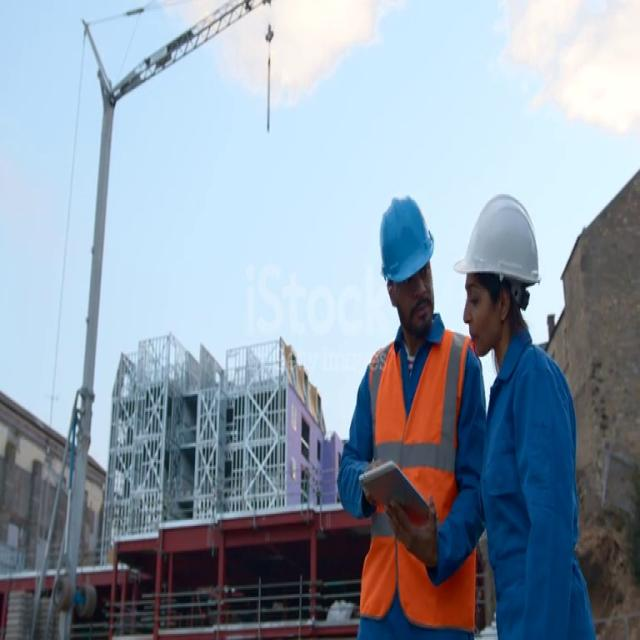capacete: (451, 182, 542, 305), (366, 187, 437, 304)
